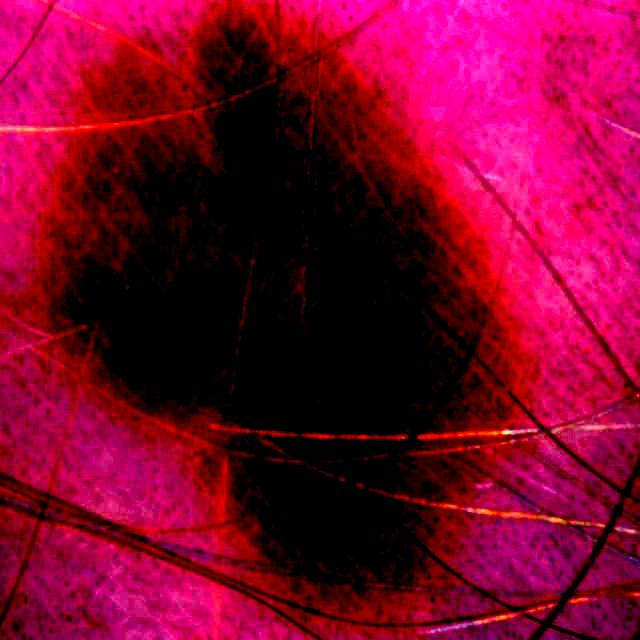BCC: (62, 3, 539, 594)
